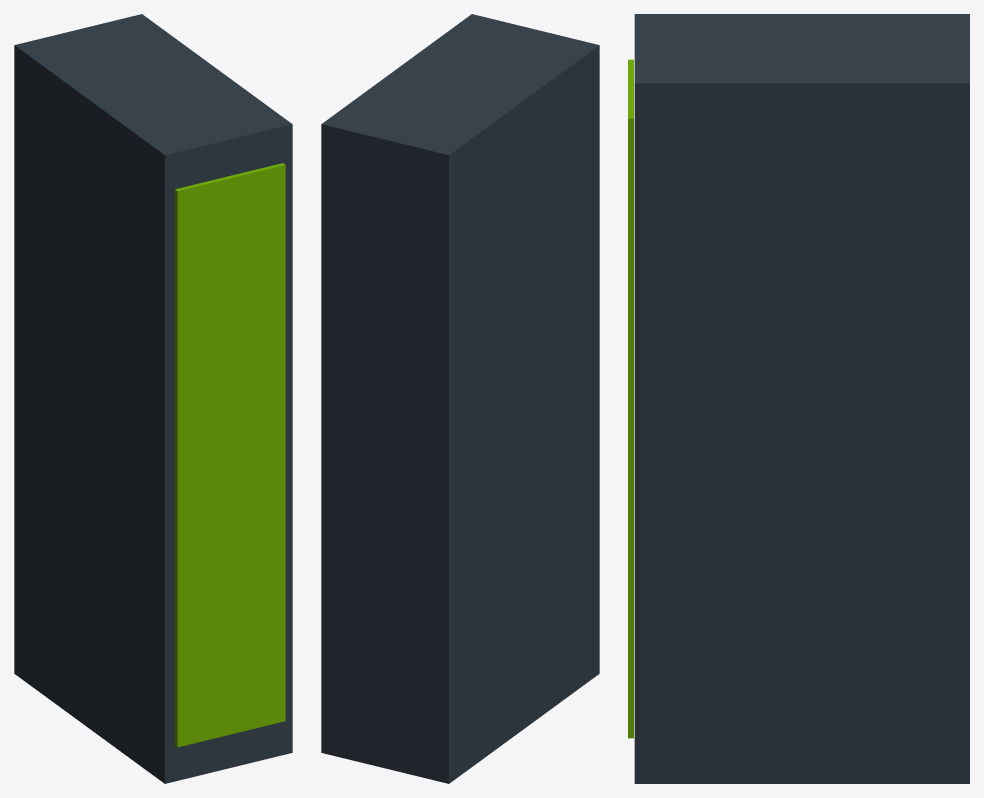
File: kyber.glb
The picture shows the model from 3 angles, left to right: view 1: azimuth 30°, elevation 25°; view 2: azimuth 150°, elevation 25°; view 3: azimuth 270°, elevation 25°; orthographic projection. The views are drawn at different scales.
Parts seen in each view (by area): view 1: Body, Front; view 2: Body; view 3: Body, Front.
Part boxes in pixels (x1,y1,x2,y2): Body: (14,14,292,783); Front: (175,163,285,747); Body: (321,14,599,783); Body: (634,14,969,783); Front: (628,59,633,738).
Bounding box in the file's own units: 0.552 × 2.6 × 1.15.
